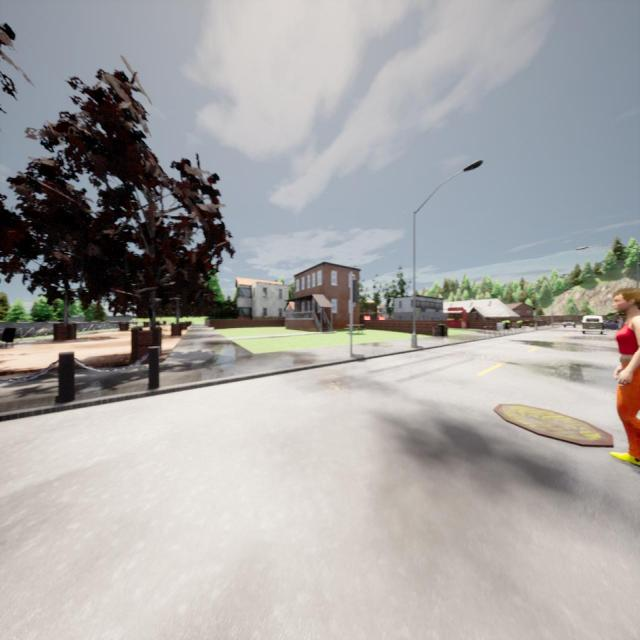Pedestrian: (611, 288, 639, 466)
Vehicle: (580, 316, 604, 334), (603, 318, 622, 331), (563, 318, 576, 328)
traffic_light: (352, 279, 358, 302)
